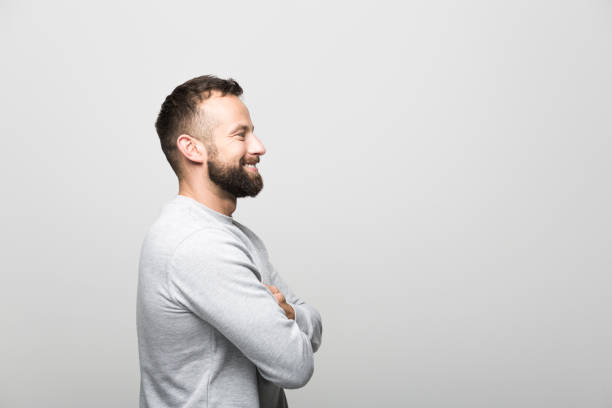Male: (137, 76, 325, 408)
